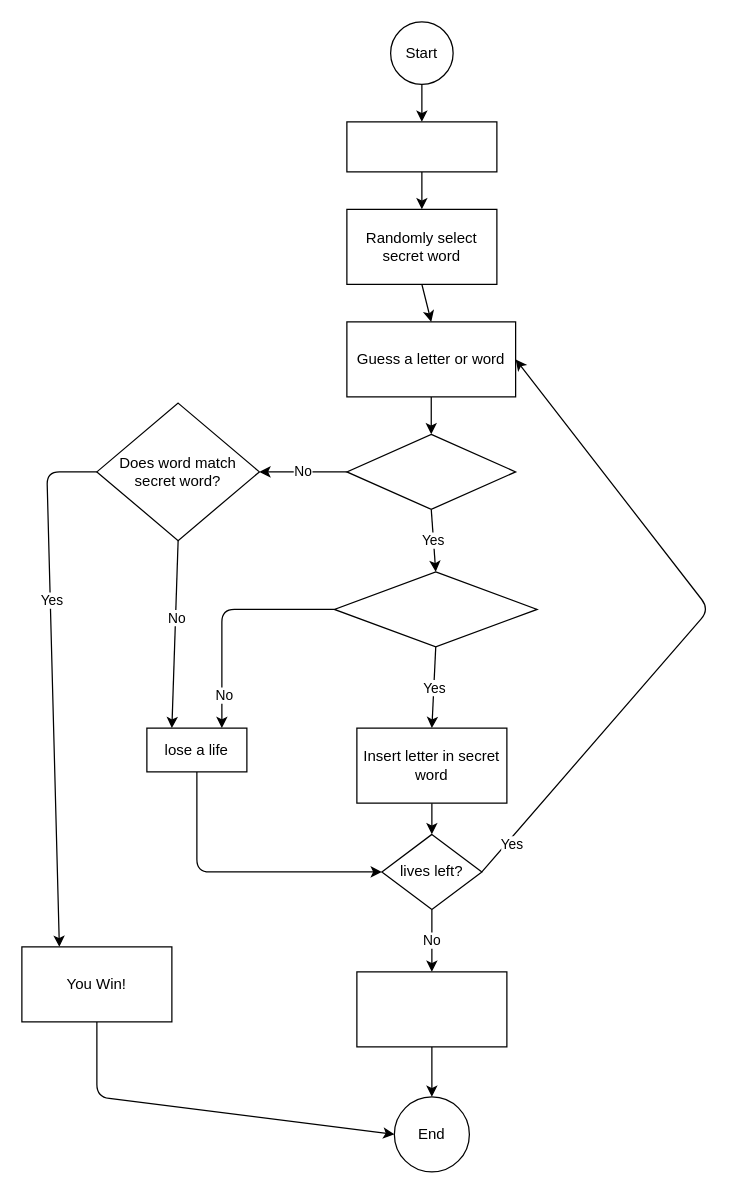
Image size: 741x1194. Some labels were removed from this diagram. Here are the shapes that lost their labels. From the top down, the centre of each, then its label:
point 421,146: Set lives to 9
point 431,471: Is it a letter?
point 435,609: Is letter in secret word?
point 431,1009: Game Over
